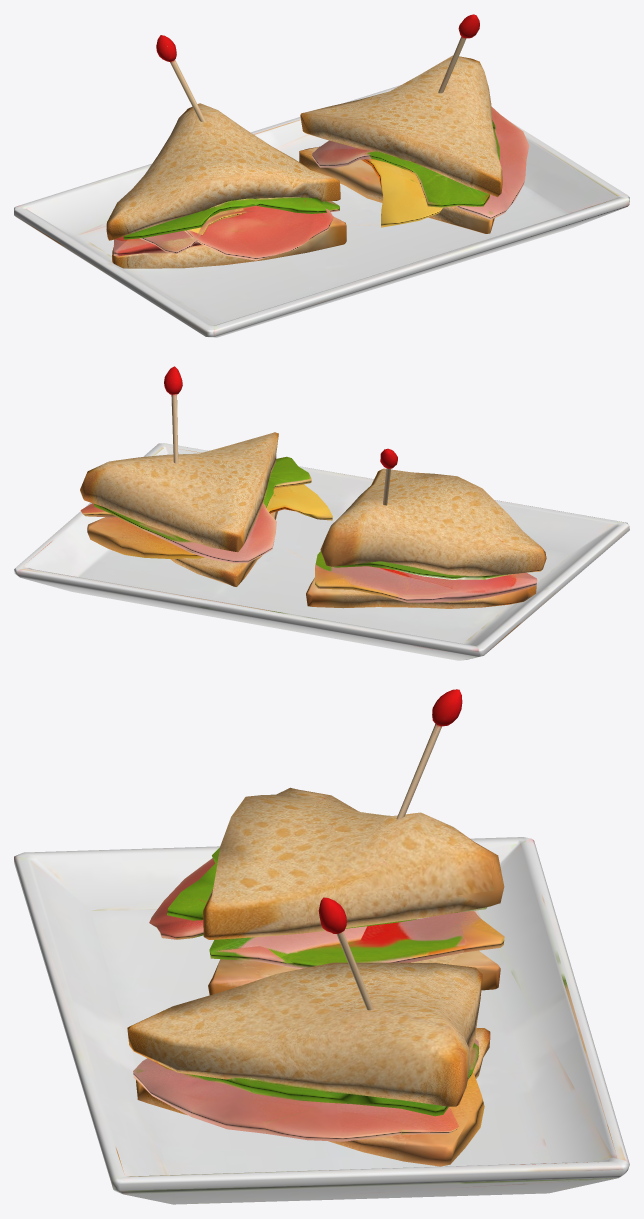
Rendered from food_sandwich.glb.
3 renders of one model, top to bottom at view 1: azimuth 30°, elevation 25°; view 2: azimuth 150°, elevation 25°; view 3: azimuth 270°, elevation 25°, orthographic. The views are drawn at different scales.
Bounding box in the file's own units: 1 × 0.3923 × 0.7611.
1 material, 1 textured.
